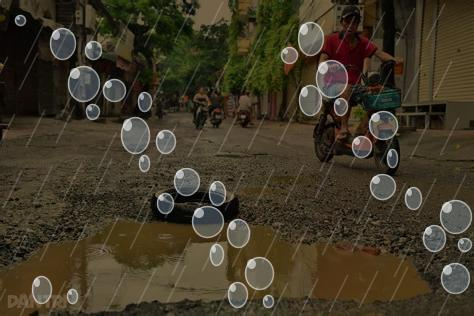POTHOLE: (0, 212, 427, 316)
ROAD_OBSTACLE: (142, 183, 246, 240)
